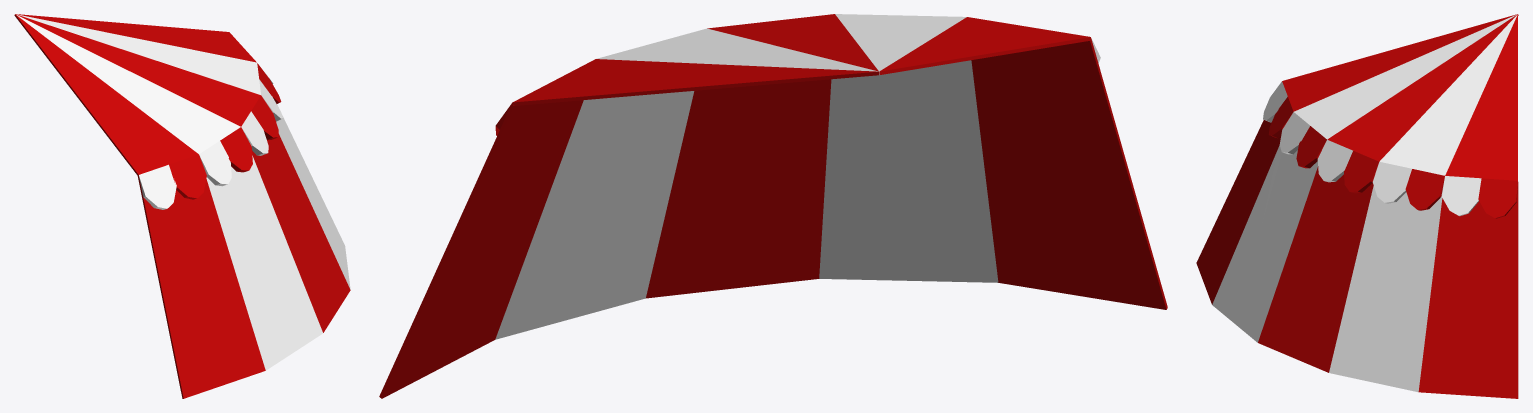
Rendered from tent.fbx.
3 views of the same model, side by side, from view 1: azimuth 30°, elevation 25°; view 2: azimuth 150°, elevation 25°; view 3: azimuth 270°, elevation 25° (orthographic). The views are drawn at different scales.
Visible parts, largest first — view 1: Object_15; view 2: Object_15; view 3: Object_15.
Boxes of the visible parts, box(x1,y1,x2,y2) form: Object_15: box(14, 14, 350, 398); Object_15: box(379, 14, 1167, 398); Object_15: box(1196, 14, 1518, 398).
Size of the model in its own units: 678 by 580 by 678.
